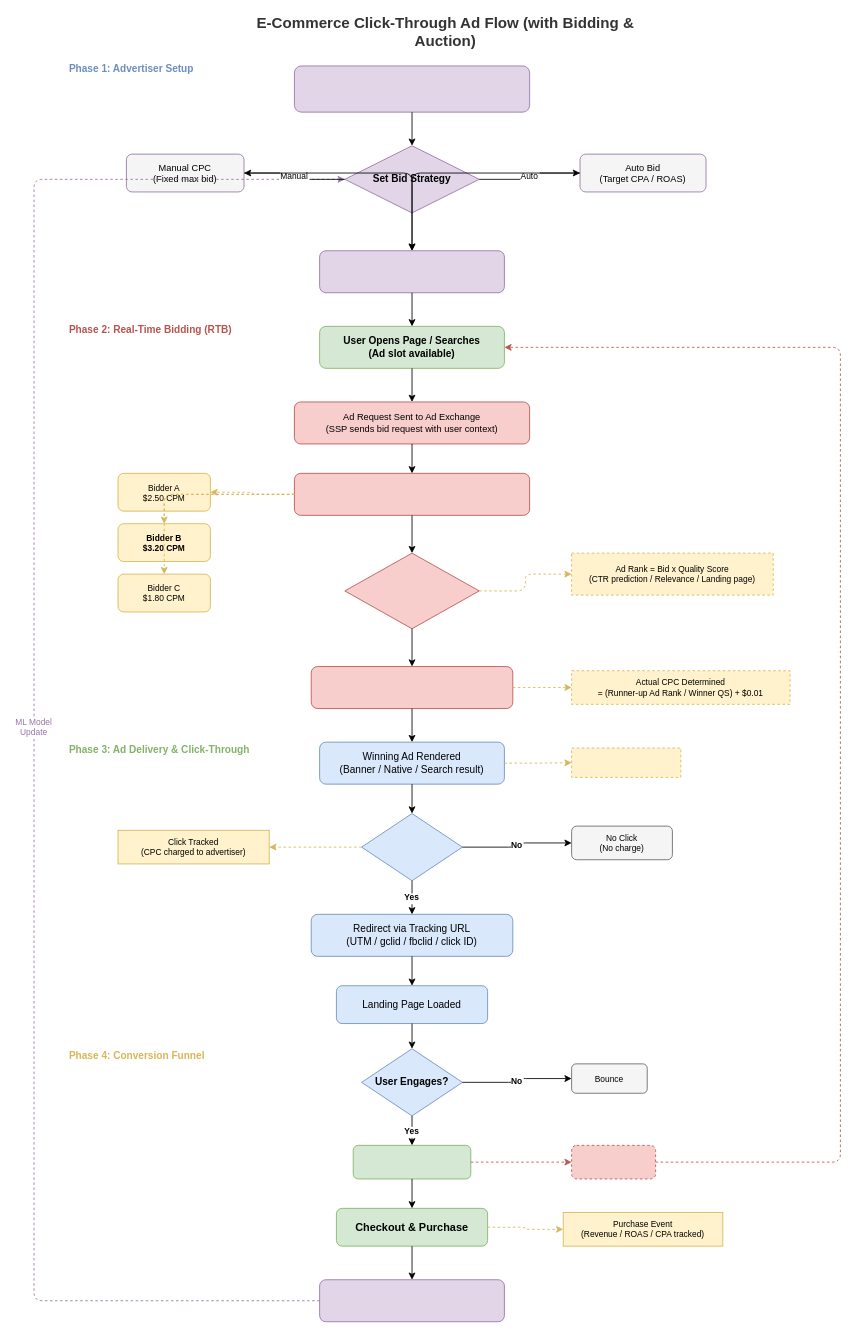
Some shapes in this 862 by 1336 pixel diagram are drawn without their labels. The centre of each missing label's shape, as x and y in pixels:
"Abandoned? Retarget!" belongs at point (613, 1161).
"Ad Auction (2nd-price / 1st-price)" belongs at point (411, 590).
"Add to Cart" belongs at point (411, 1161).
"Advertiser Creates Campaign (Target audience / Budget / Creative)" belongs at point (412, 88).
"Campaign Goes Live (Enters ad pool)" belongs at point (411, 271).
"Conversion Data Fed Back (Optimizes future bids & targeting)" belongs at point (411, 1300).
"DSPs Evaluate Bid Request (User profile / Context / Budget)" belongs at point (412, 493).
"Impression Tracked" belongs at point (626, 762).
"User Clicks?" belongs at point (411, 847).
"Winning Ad Selected (Highest Ad Rank wins)" belongs at point (411, 687).
